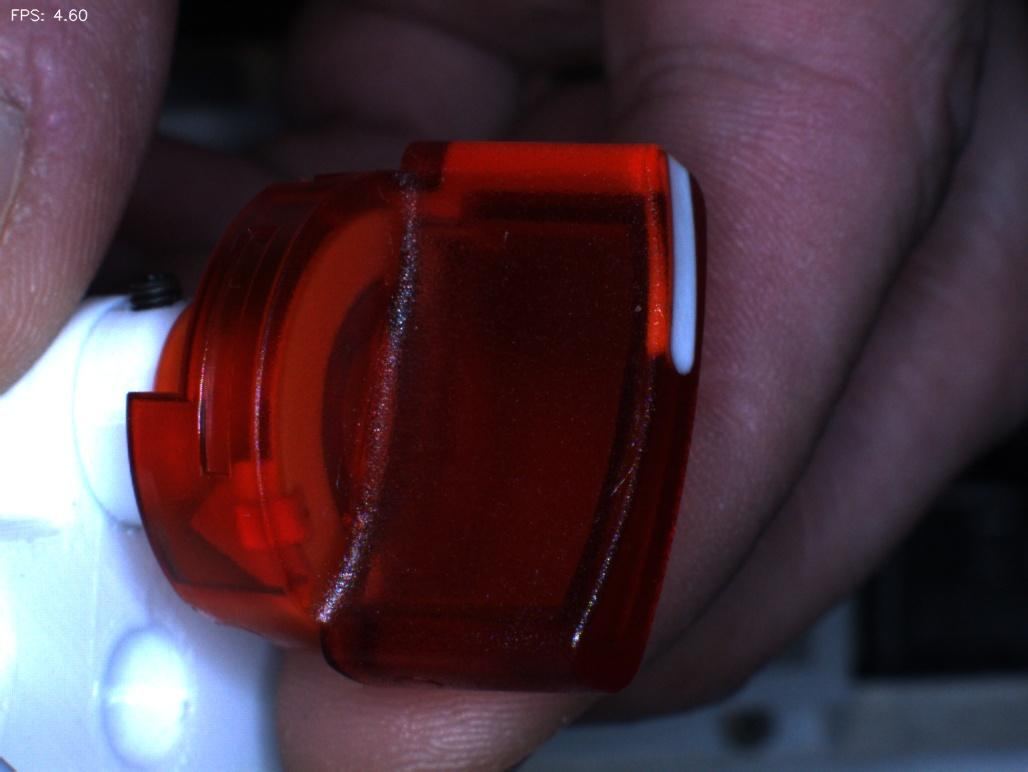Givrage: (585, 376, 664, 499)
